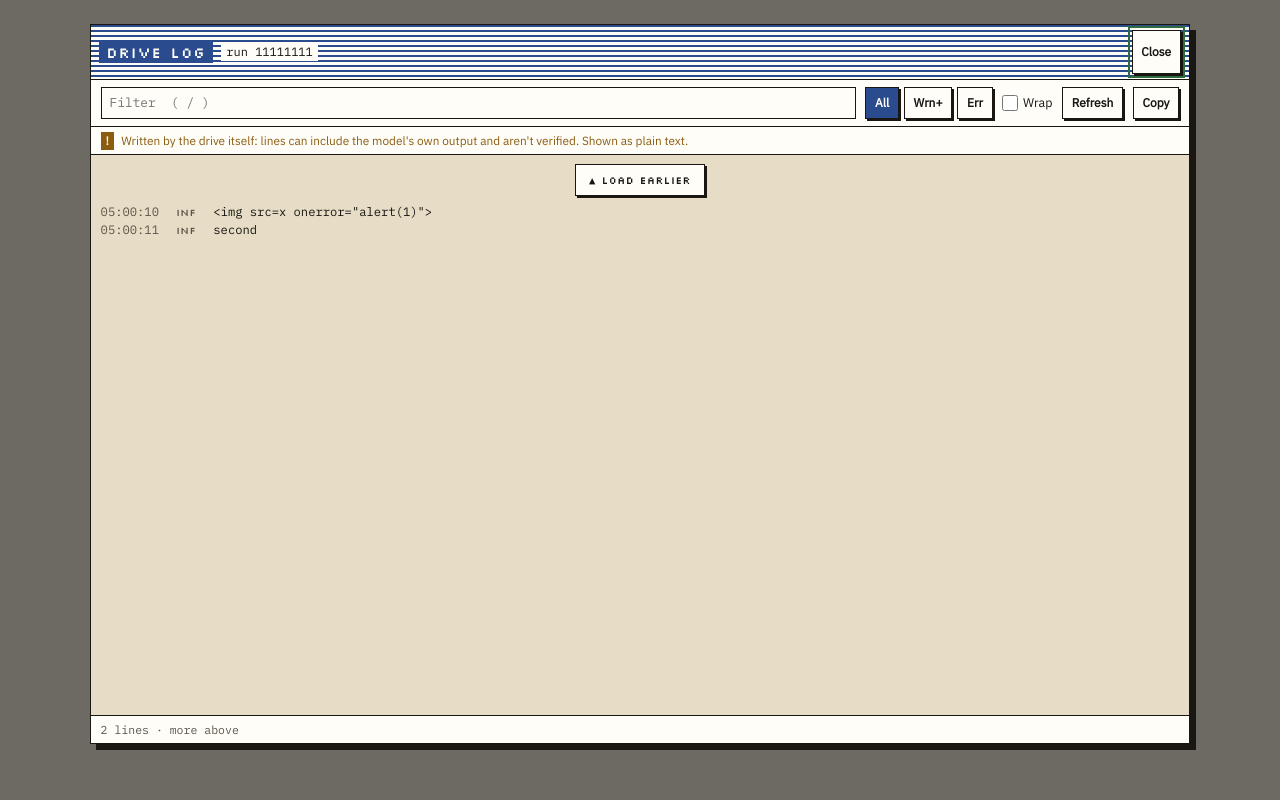
Scenario: LogViewerDialog › renders lines as plain text with the untrusted note, and pages back
Expected: the dialog shows "aren't verified", [118,133,688,148]
Click the button with class "log-viewer-earlier".
click(640, 180)  # box [575,164,705,196]
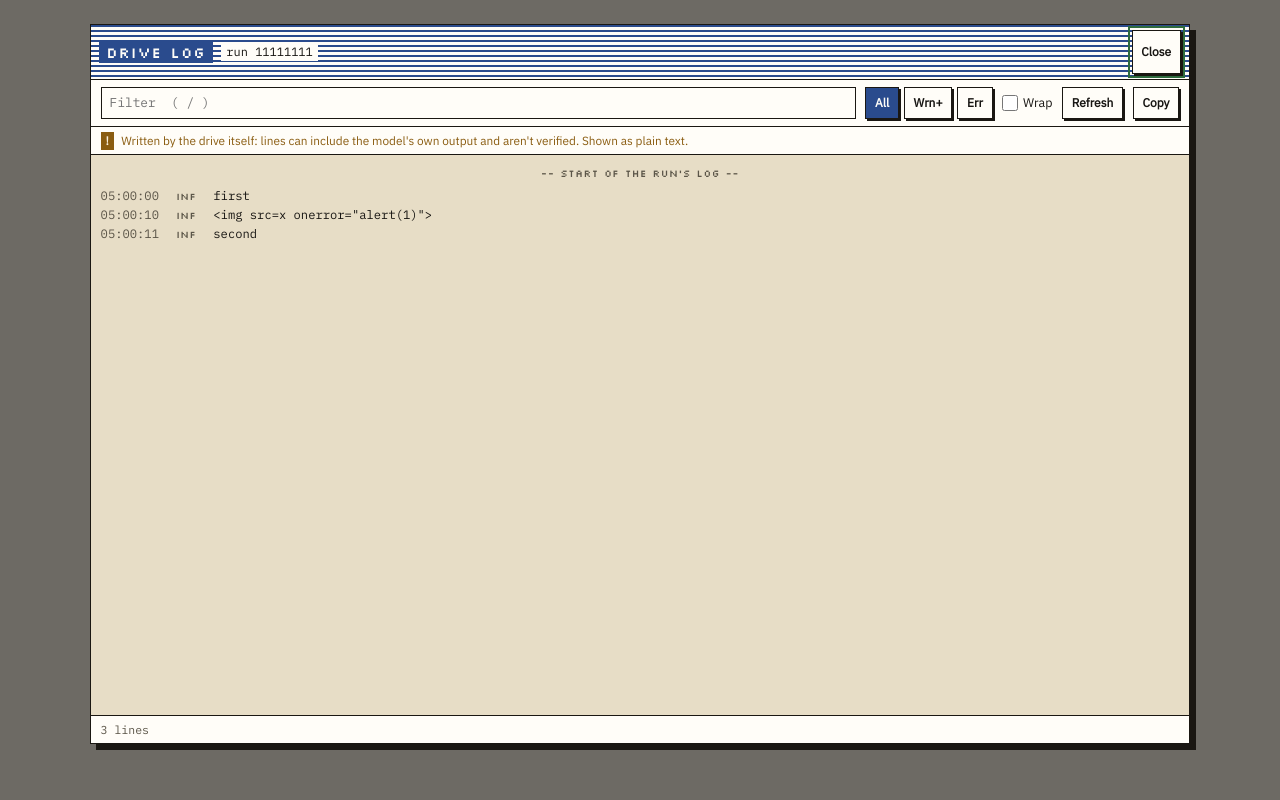
Result: the dialog shows "start of the run's log" at [541,166,739,180]
Result: the button with class "log-viewer-earlier" is gone
